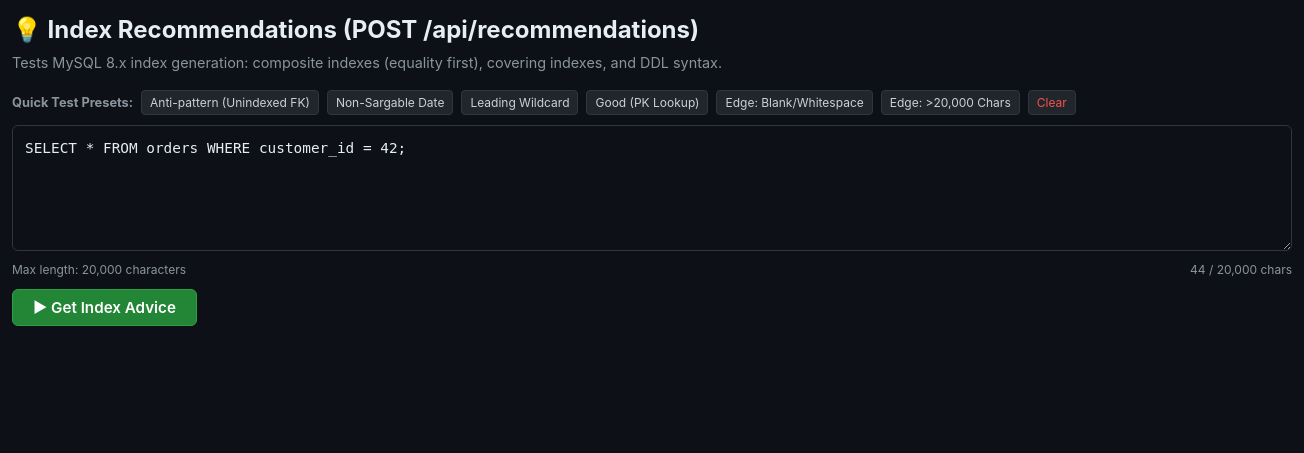
Test: RecommendationsPage Component › handles 400 Bad Request error cleanly with ErrorBanner
This screenshot has width=1304, height=453.
What coordinates should you click on to do the following:
click the button "▶ Get Index Advice"
I would click on:
 (104, 308)
Its box is [12,289,197,326].
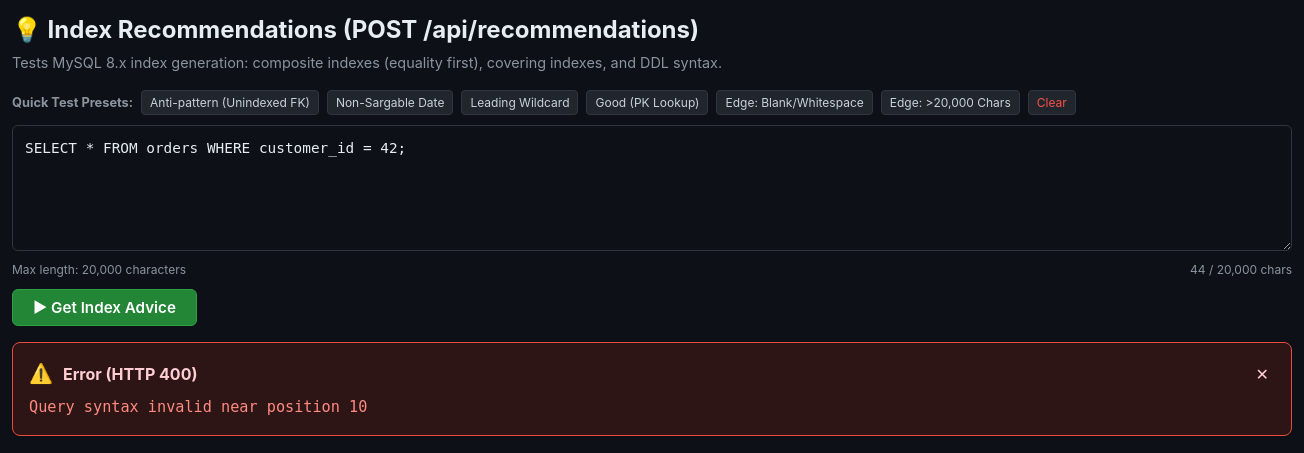
Now the text "Query syntax invalid near position 10" is shown, box [29,398,367,416]
Now the text "Error (HTTP 400)" is shown, box [63,362,198,386]
